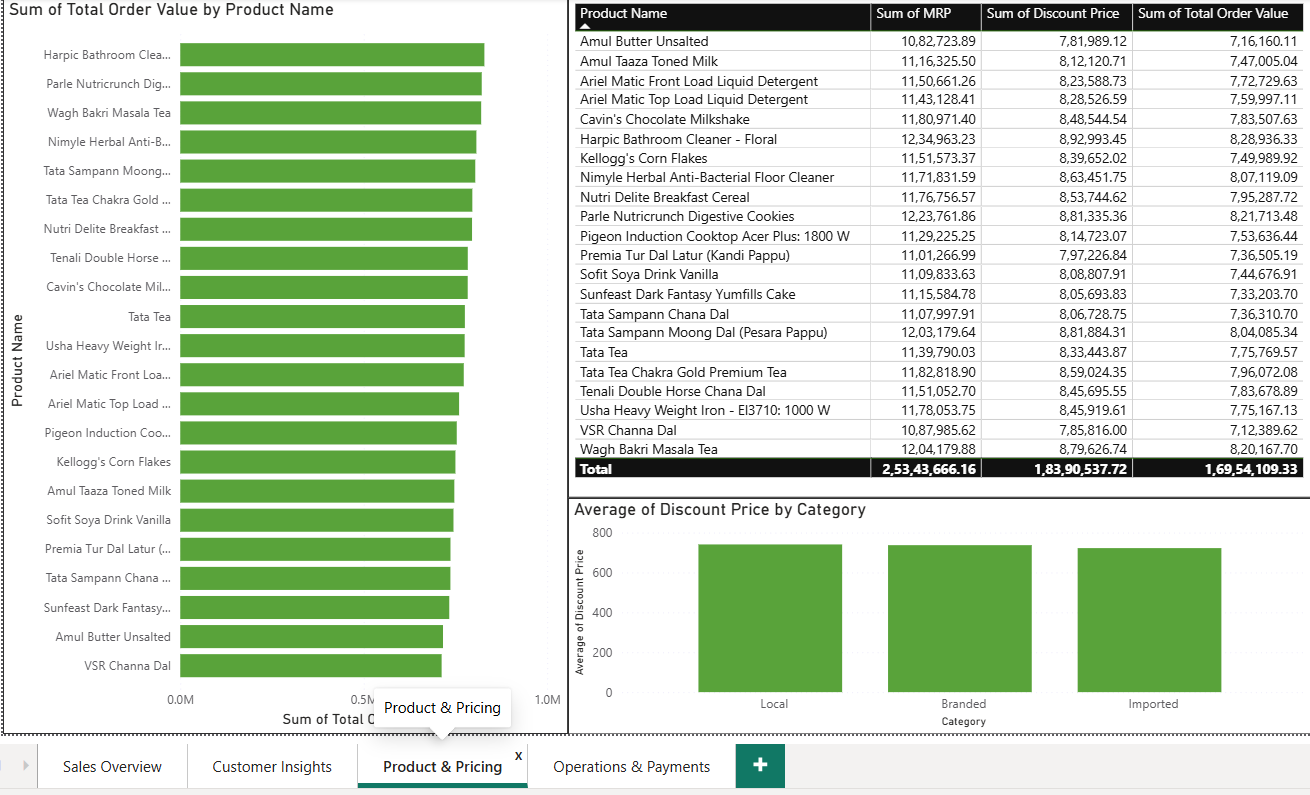

What the dashboard file says about the page in this screenshot:
{"tool":"powerbi","page":{"name":"Product & Pricing","canvas":[1280,720],"ordinal":2},"visuals":[{"type":"barChart","fields":{"Category":["Dmart+Dataset_Tableau.Product Name"],"Y":["Sum(Dmart+Dataset_Tableau.Total Order Value)"]},"box":[0,0,552.7,720.2],"z":0},{"type":"columnChart","fields":{"Category":["Dmart+Dataset_Tableau.Category"],"Y":["Avg(Dmart+Dataset_Tableau.Discount Price)"]},"box":[552.7,489.1,727.6,231.1],"z":1000},{"type":"tableEx","fields":{"Values":["Dmart+Dataset_Tableau.Product Name","Sum(Dmart+Dataset_Tableau.MRP)","Sum(Dmart+Dataset_Tableau.Discount Price)","Sum(Dmart+Dataset_Tableau.Total Order Value)"]},"box":[552.7,0,727.6,489.1],"z":2000}]}

Visuals, with their boxes on the page's 1280x720 design canvas (x1, y1, x2, y2). These are canvas units, not pixel positions in the 1310x795 screenshot, which may show the page scaled, cropped or inside an application window:
barChart - Dmart+Dataset_Tableau.Product Name x Sum(Dmart+Dataset_Tableau.Total Order Value): Rect(0, 0, 553, 720)
columnChart - Dmart+Dataset_Tableau.Category x Avg(Dmart+Dataset_Tableau.Discount Price): Rect(553, 489, 1280, 720)
tableEx - Dmart+Dataset_Tableau.Product Name x Sum(Dmart+Dataset_Tableau.MRP): Rect(553, 0, 1280, 489)
